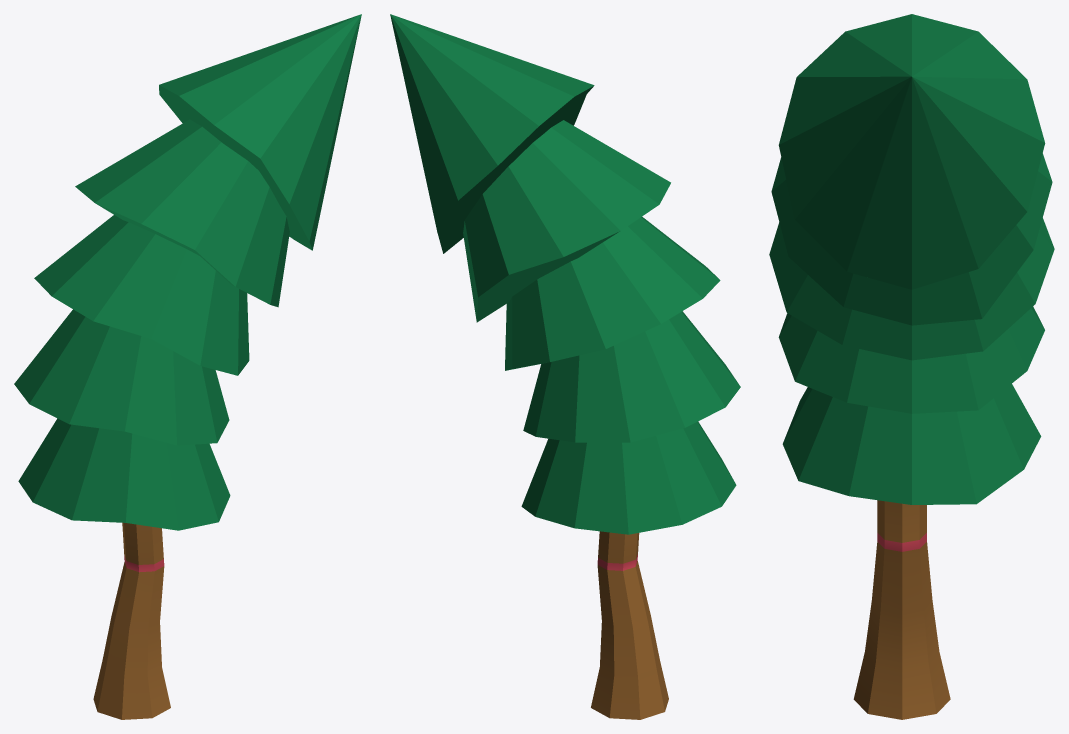
File: Tree 4.fbx
3 views of the same model, side by side, from view 1: azimuth 30°, elevation 25°; view 2: azimuth 150°, elevation 25°; view 3: azimuth 270°, elevation 25° (orthographic). The views are drawn at different scales.
Parts seen in each view (by area): view 1: pCone24; view 2: pCone24; view 3: pCone24.
Part boxes in pixels (bbox=[...]): pCone24: bbox=[14, 14, 361, 719]; pCone24: bbox=[390, 14, 740, 719]; pCone24: bbox=[769, 14, 1054, 719].
Size of the model in its own units: 477 by 863 by 293.
